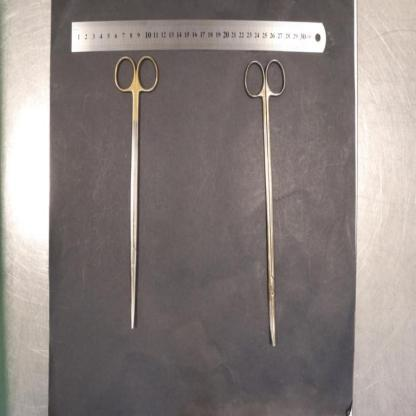7 Metzenbaum Scissors: (114, 51, 159, 329)
9 Metzenbaum Scissors: (242, 57, 286, 347)
